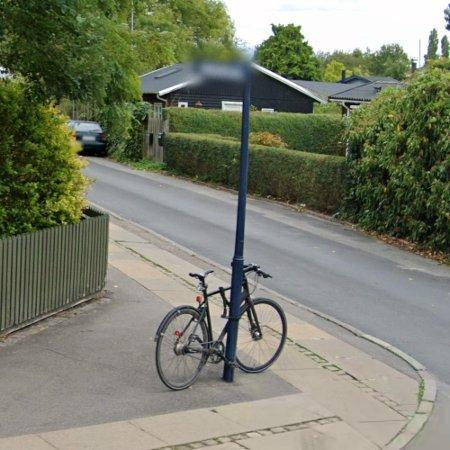bicycles: (155, 270, 231, 391), (236, 265, 288, 374)
